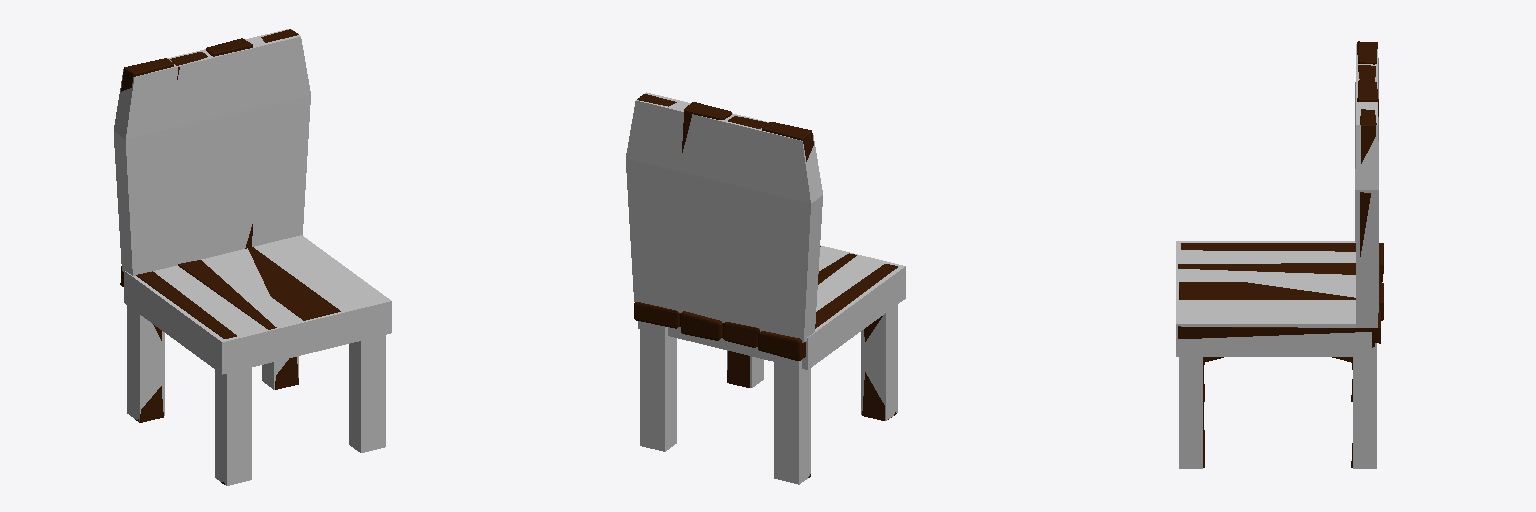
File: chair.obj
The picture shows the model from 3 angles: view 1: azimuth 30°, elevation 25°; view 2: azimuth 150°, elevation 25°; view 3: azimuth 270°, elevation 25°; orthographic projection.
Parts seen in each view (by area): view 1: COLLISION_Cube, Cube.001_Cube.002; view 2: COLLISION_Cube, Cube.001_Cube.002; view 3: COLLISION_Cube, Cube.001_Cube.002.
Boxes of the visible parts, box(x1,y1,x2,y2) form: COLLISION_Cube: box(114, 29, 391, 485); Cube.001_Cube.002: box(120, 29, 340, 484); COLLISION_Cube: box(626, 92, 905, 484); Cube.001_Cube.002: box(634, 94, 897, 477); COLLISION_Cube: box(1176, 44, 1378, 468); Cube.001_Cube.002: box(1178, 41, 1383, 467).
Size of the model in its own units: 0.3522 by 0.6327 by 0.3426.